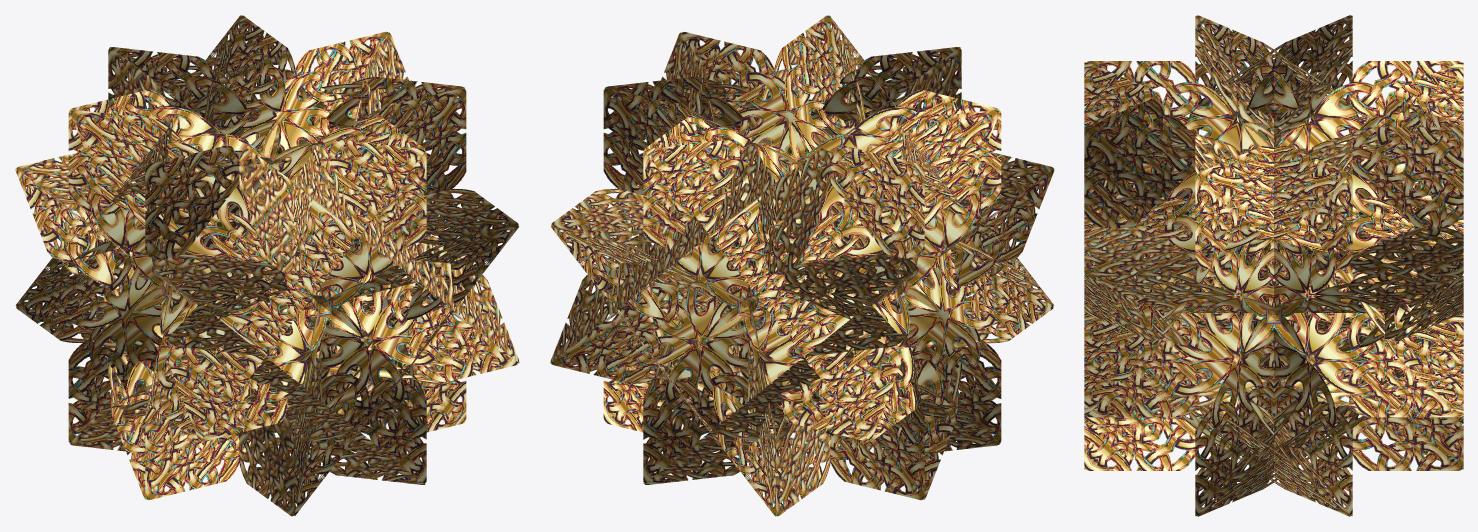
File: 31UniformGreatRhombicuboctahedron.gltf
3 views of the same model, side by side, from view 1: azimuth 30°, elevation 25°; view 2: azimuth 150°, elevation 25°; view 3: azimuth 270°, elevation 25° (orthographic). The views are drawn at different scales.
Parts seen in each view (by area): view 1: 3UniformGreatRhombicuboctahedron; view 2: 3UniformGreatRhombicuboctahedron; view 3: 3UniformGreatRhombicuboctahedron.
Boxes of the visible parts, box(x1,y1,x2,y2) form: 3UniformGreatRhombicuboctahedron: box(15, 15, 519, 516); 3UniformGreatRhombicuboctahedron: box(550, 15, 1054, 516); 3UniformGreatRhombicuboctahedron: box(1084, 15, 1463, 516).
Bounding box in the file's own units: 1 × 1 × 1.
1 material, 1 textured.
